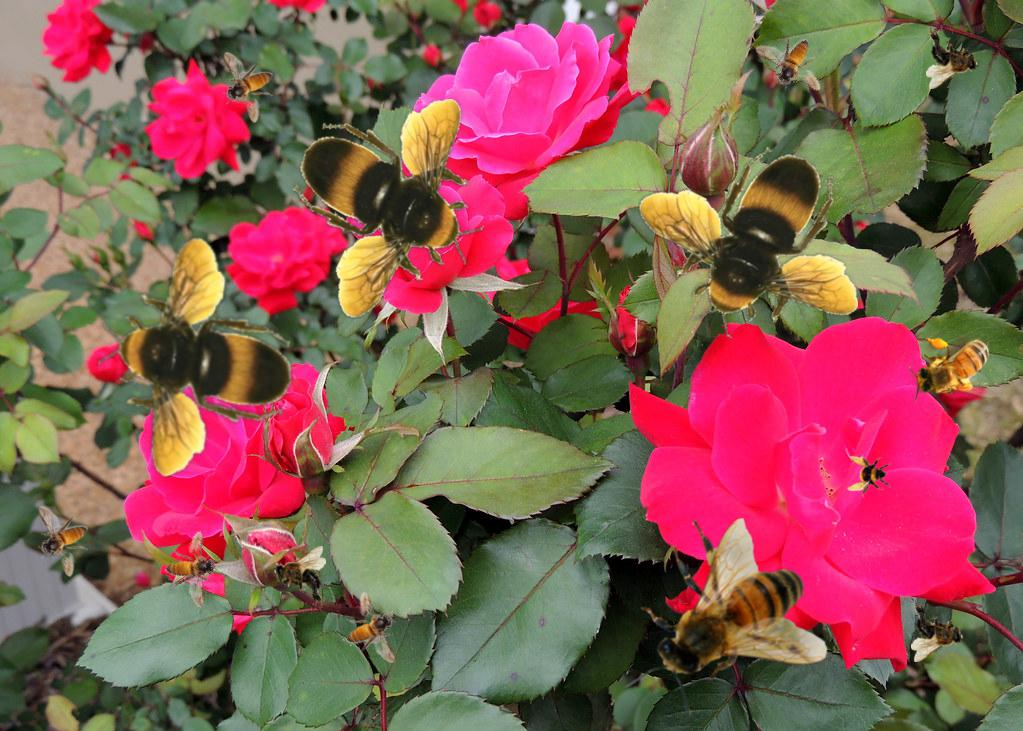Bee: (69, 218, 319, 487), (293, 99, 484, 319), (638, 147, 858, 338), (624, 518, 828, 717), (753, 21, 835, 108), (909, 334, 1002, 402), (156, 524, 230, 609), (223, 52, 273, 123), (38, 506, 88, 577), (346, 592, 396, 663), (273, 546, 326, 608), (911, 600, 964, 662), (926, 27, 979, 89), (847, 454, 891, 498)
